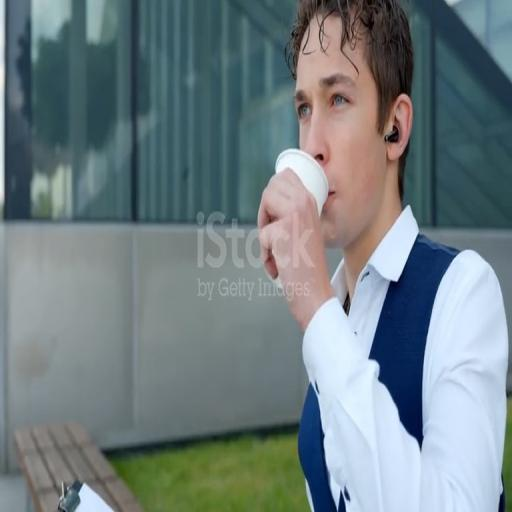earphone: (384, 118, 402, 152)
